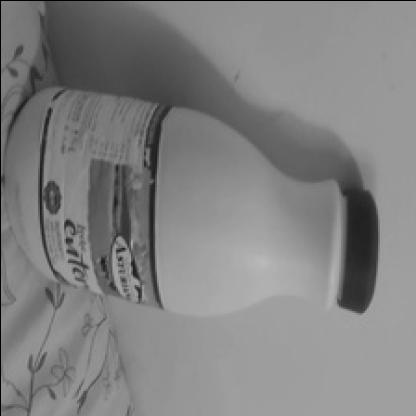plastic_bottles: (0, 95, 376, 319)
